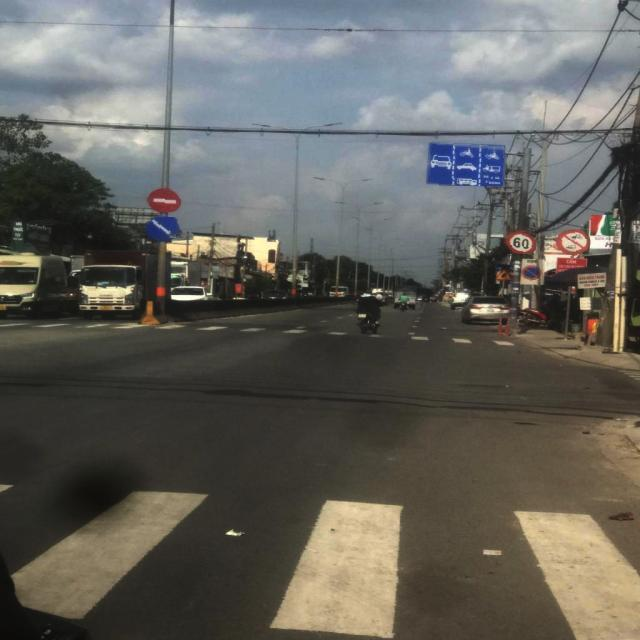102-cam-di-nguoc-chieu: (148, 188, 182, 213)
127-toc-do-toi-da-60: (504, 230, 537, 254)
131a-cam-do-xe: (521, 264, 542, 281)
302a-huong-phai-di-vong-chuong-ngai-vat-1: (146, 215, 180, 242)
